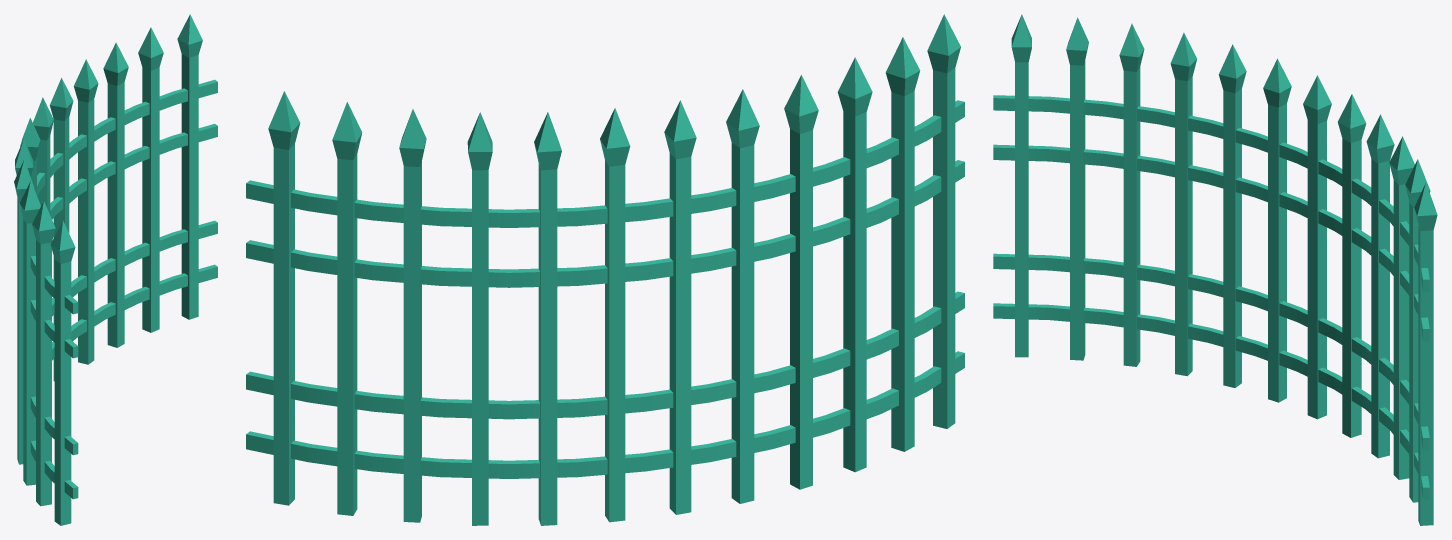
The model's file is ironFenceCurve.obj.
The picture shows the model from 3 angles, left to right: view 1: azimuth 30°, elevation 25°; view 2: azimuth 150°, elevation 25°; view 3: azimuth 270°, elevation 25°; orthographic projection. The views are drawn at different scales.
Visible parts, largest first — view 1: ironFenceCurve; view 2: ironFenceCurve; view 3: ironFenceCurve.
Boxes of the visible parts, <box> form: ironFenceCurve: <box>14,14,217,525</box>; ironFenceCurve: <box>246,14,964,525</box>; ironFenceCurve: <box>993,14,1437,525</box>.
Bounding box in the file's own units: 0.9725 × 0.8239 × 0.9746.
